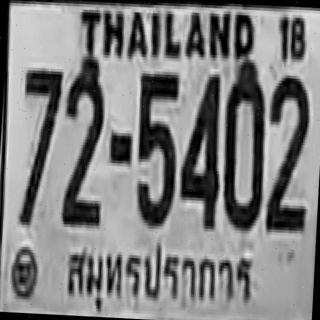N00: (220, 61, 268, 229)
N02: (59, 61, 107, 226), (264, 72, 311, 231)
N04: (178, 70, 224, 227)
N05: (132, 69, 180, 226)
N07: (16, 66, 62, 225)
P57: (64, 235, 261, 320)
